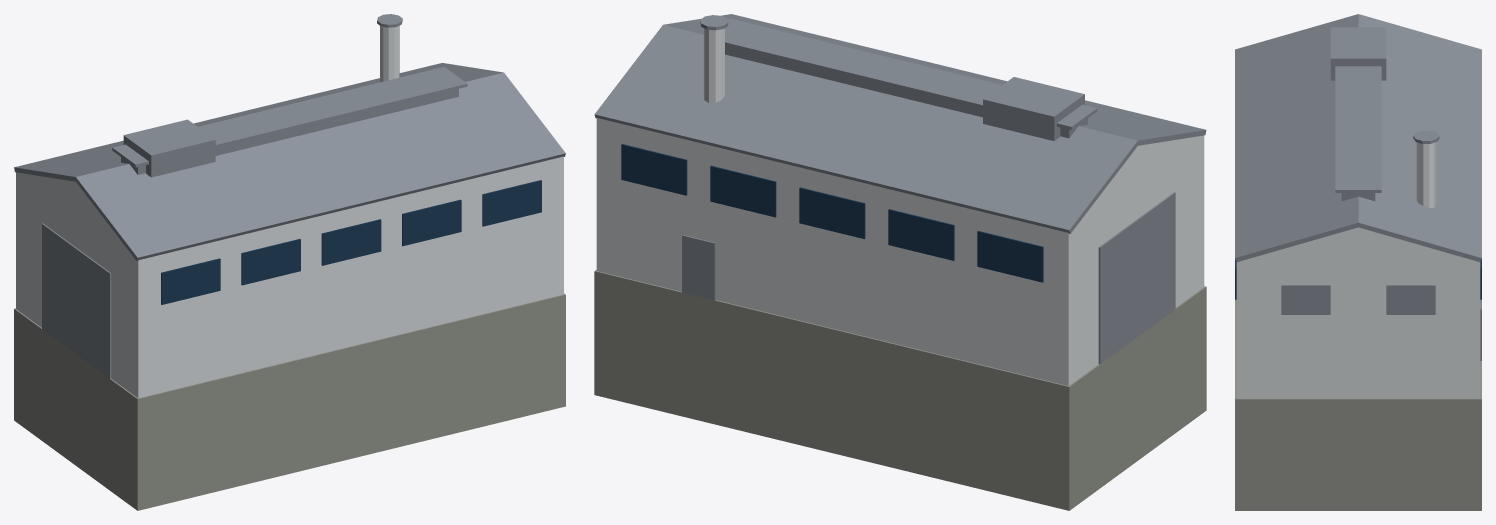
The model's file is site_pump.fbx.
The picture shows the model from 3 angles, left to right: view 1: azimuth 30°, elevation 25°; view 2: azimuth 150°, elevation 25°; view 3: azimuth 270°, elevation 25°; orthographic projection. The views are drawn at different scales.
Parts seen in each view (by area): view 1: a1063/0/site_pump; view 2: a1063/0/site_pump; view 3: a1063/0/site_pump.
Part boxes in pixels (left/top/right/bottom): a1063/0/site_pump: left=14, top=14, right=565, bottom=510; a1063/0/site_pump: left=594, top=14, right=1206, bottom=510; a1063/0/site_pump: left=1235, top=14, right=1481, bottom=510.
Bounding box in the file's own units: 12.8 × 9.61 × 6.4.
